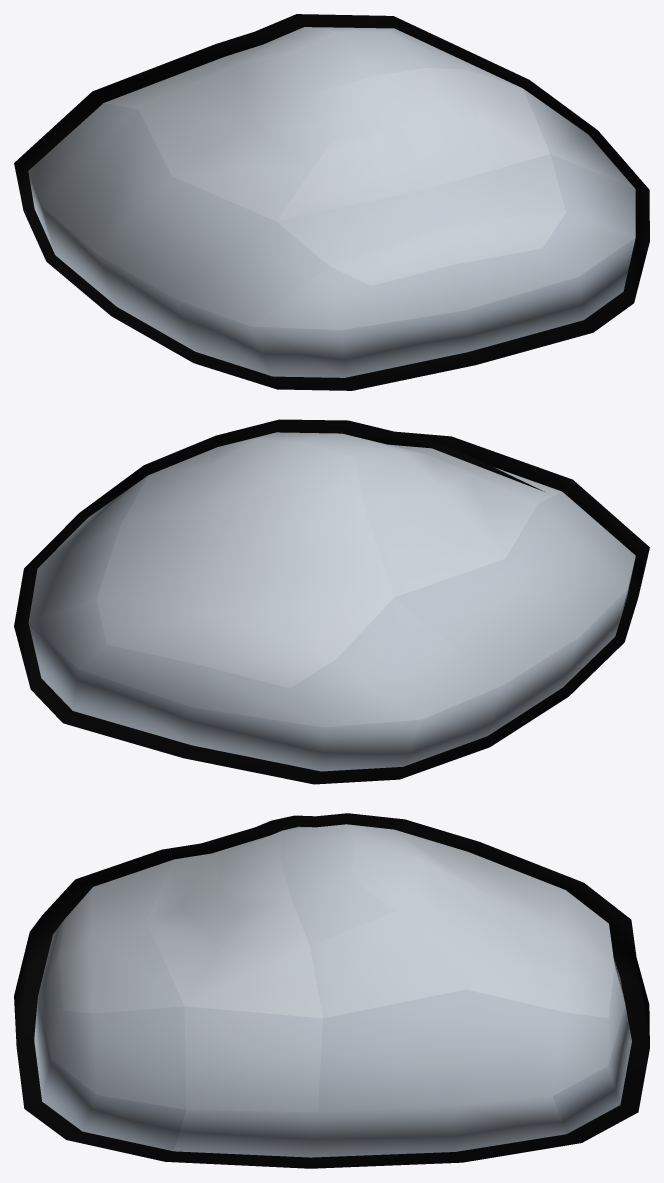
File: Clay.fbx
3 views of the same model, one above another, from view 1: azimuth 30°, elevation 25°; view 2: azimuth 150°, elevation 25°; view 3: azimuth 270°, elevation 25° (orthographic). The views are drawn at different scales.
Parts seen in each view (by area): view 1: Cube; view 2: Cube; view 3: Cube.
Part boxes in pixels (bbox=[...]): Cube: bbox=[14, 14, 649, 390]; Cube: bbox=[14, 419, 649, 784]; Cube: bbox=[14, 813, 649, 1168].
Bounding box in the file's own units: 430 × 179 × 446.
